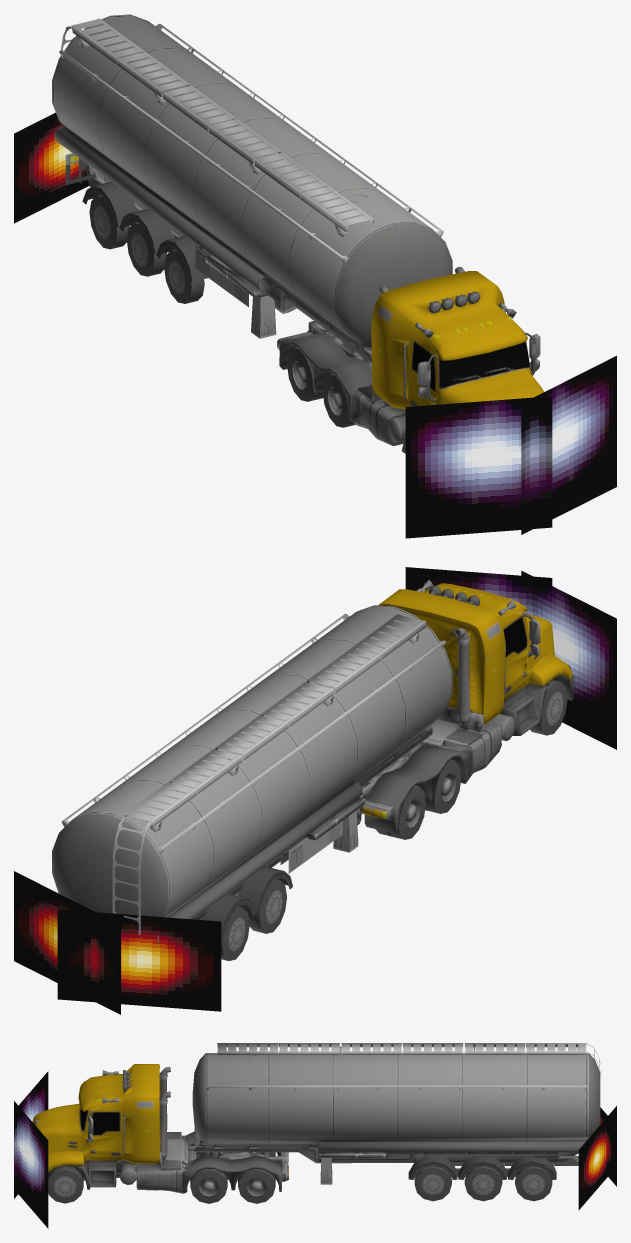
File: traffic-truck.glb
The picture shows the model from 3 angles, top to bottom: view 1: azimuth 30°, elevation 25°; view 2: azimuth 150°, elevation 25°; view 3: azimuth 270°, elevation 25°; orthographic projection. The views are drawn at different scales.
Visible parts, largest first — view 1: Object_13, Object_19, Object_7, Object_11; view 2: Object_13, Object_19, Object_7, Object_11; view 3: Object_13, Object_7, Object_19, Object_11.
Part boxes in pixels (<box>): Object_13: <box>52,14,452,362</box>; Object_19: <box>14,112,616,538</box>; Object_7: <box>89,194,543,453</box>; Object_11: <box>59,18,443,263</box>; Object_13: <box>52,605,452,943</box>; Object_19: <box>14,567,616,1014</box>; Object_7: <box>221,579,573,960</box>; Object_11: <box>61,613,446,935</box>; Object_13: <box>192,1053,600,1184</box>; Object_7: <box>32,1064,552,1203</box>; Object_19: <box>14,1071,616,1228</box>; Object_11: <box>206,1043,601,1089</box>.
Bounding box in the file's own units: 0.0382 × 0.0363 × 0.1401.
Materials: 4 (4 with a texture image).
